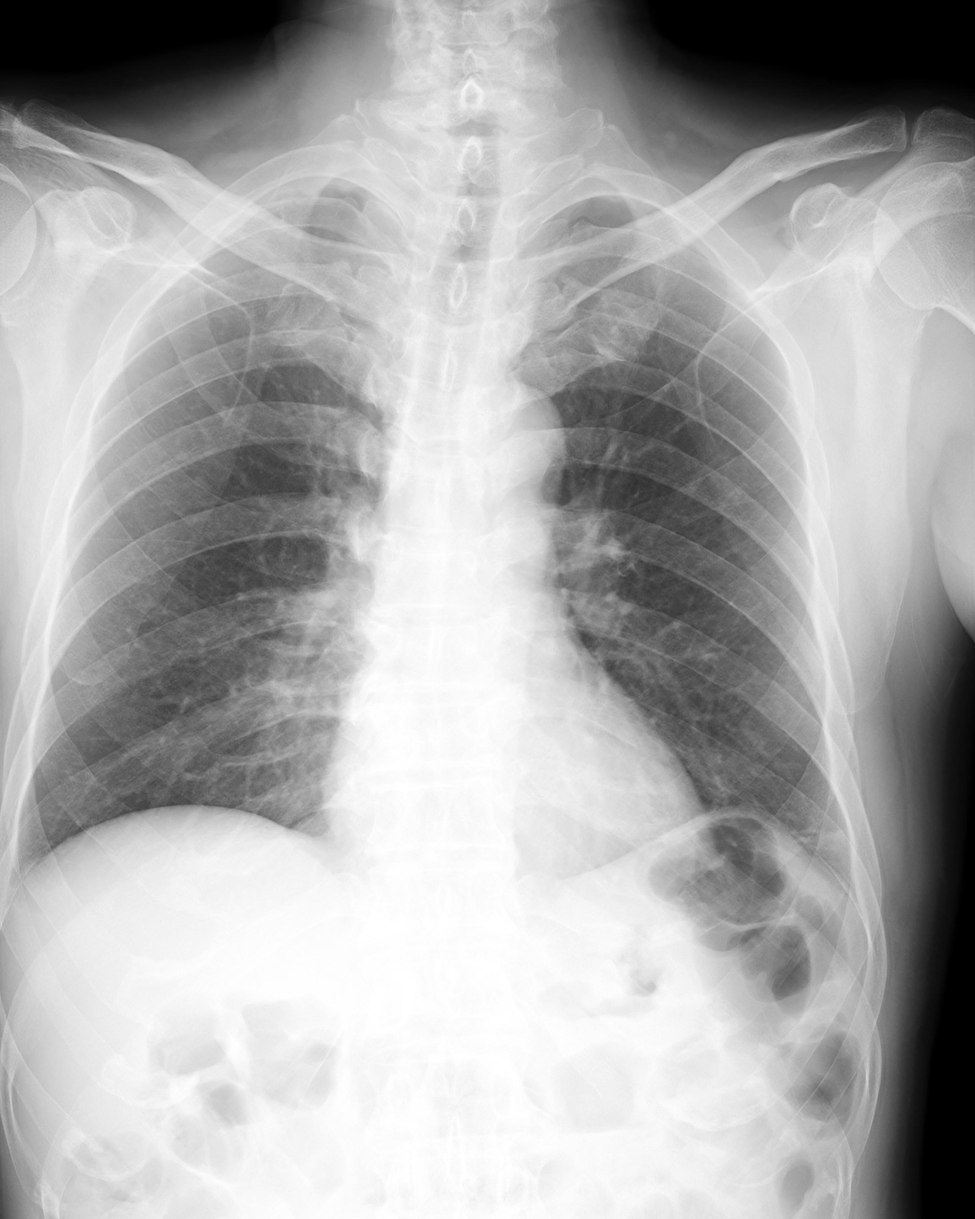Aortic enlargement: (451, 380, 569, 500)
Pleural thickening: (245, 173, 375, 206), (593, 185, 654, 212)
